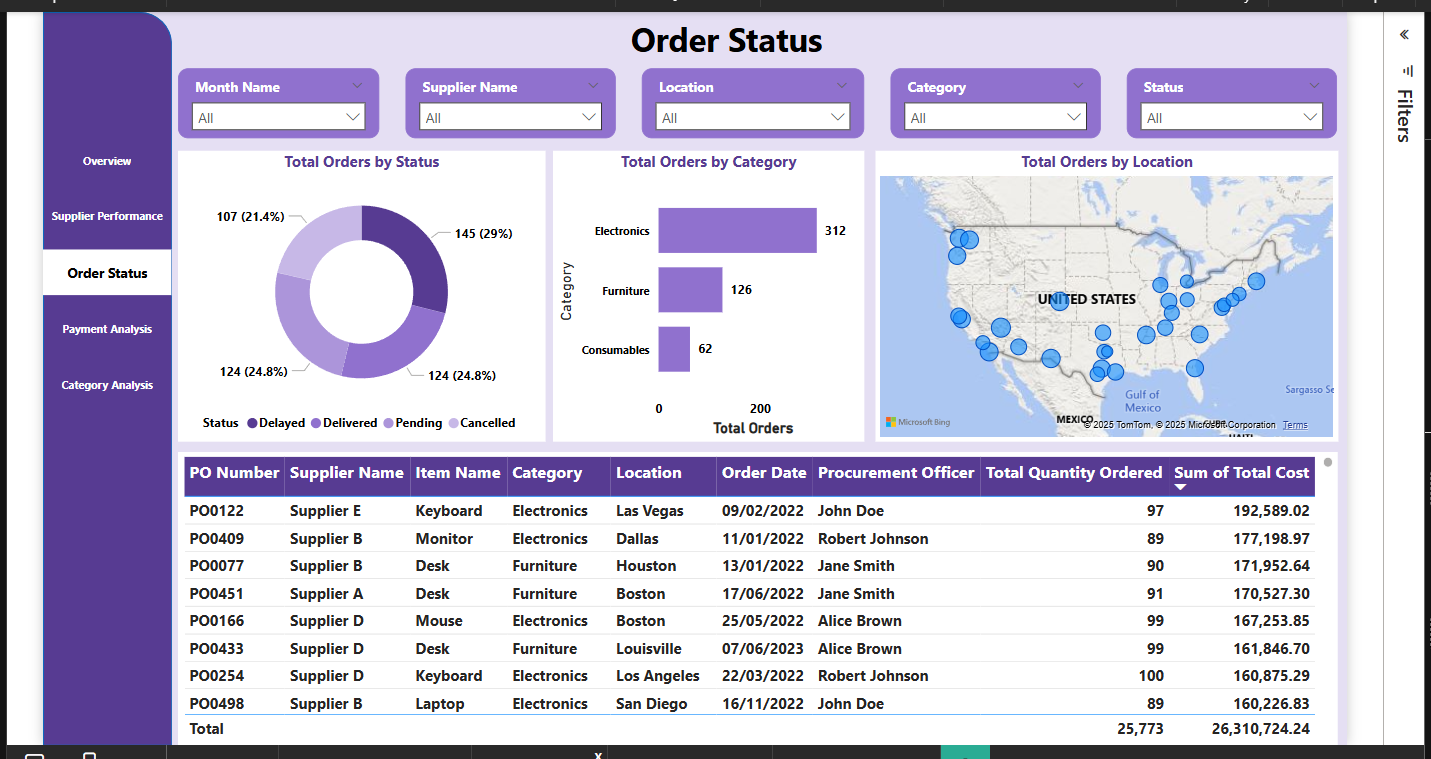

Layout of this report page (visuals, bound fields, positions):
{"tool":"powerbi","page":{"name":"Order Status","canvas":[1280,720],"ordinal":2},"visuals":[{"type":"textbox","box":[429.4,0,483.1,55.3],"z":0},{"type":"slicer","fields":{"Values":["Calendar Table.Month Name"]},"box":[132.7,55.5,197.9,68.8],"z":1000},{"type":"slicer","fields":{"Values":["Data.Supplier Name"]},"box":[356.2,55.5,206.3,68.8],"z":2000},{"type":"slicer","fields":{"Values":["Data.Location"]},"box":[588.1,55.5,218.4,68.8],"z":3000},{"type":"slicer","fields":{"Values":["Data.Status"]},"box":[1064.1,55.5,206.3,68.8],"z":4000},{"type":"slicer","fields":{"Values":["Data.Category"]},"box":[832.1,55.5,206.3,68.8],"z":5000},{"type":"shape","box":[0,0,126.7,720.2],"z":6000},{"type":"donutChart","fields":{"Category":["Data.Status"],"Y":["Measures Calculation.Total Orders"]},"box":[132.7,135.6,360.7,285.7],"z":7000},{"type":"clusteredBarChart","fields":{"Category":["Data.Category"],"Y":["Measures Calculation.Total Orders"]},"box":[500.6,135.6,305.9,285.7],"z":8000},{"type":"tableEx","fields":{"Values":["Data.PO Number","Data.Supplier Name","Data.Item Name","Data.Category","Data.Location","Data.Order Date","Data.Procurement Officer","Measures Calculation.Total Quantity Ordered","Data.Total Cost"]},"box":[132.7,431.4,1138.3,288.6],"z":9000},{"type":"pageNavigator","box":[0,123.2,126.1,269.3],"z":10000},{"type":"map","title":"Total Orders by Location","fields":{"Category":["Data.Location"],"Size":["Measures Calculation.Total Orders"]},"box":[816.6,135.6,454.5,285.7],"z":11000}]}

Visuals, with their boxes on the page's 1280x720 design canvas (x1, y1, x2, y2). These are canvas units, not pixel positions in the 1431x759 screenshot, which may show the page scaled, cropped or inside an application window:
textbox: BBox(429, 0, 912, 55)
slicer - Calendar Table.Month Name: BBox(133, 56, 331, 124)
slicer - Data.Supplier Name: BBox(356, 56, 562, 124)
slicer - Data.Location: BBox(588, 56, 806, 124)
slicer - Data.Status: BBox(1064, 56, 1270, 124)
slicer - Data.Category: BBox(832, 56, 1038, 124)
shape: BBox(0, 0, 127, 720)
donutChart - Data.Status x Measures Calculation.Total Orders: BBox(133, 136, 493, 421)
clusteredBarChart - Data.Category x Measures Calculation.Total Orders: BBox(501, 136, 806, 421)
tableEx - Data.PO Number x Data.Supplier Name: BBox(133, 431, 1271, 720)
pageNavigator: BBox(0, 123, 126, 392)
"Total Orders by Location" map: BBox(817, 136, 1271, 421)
